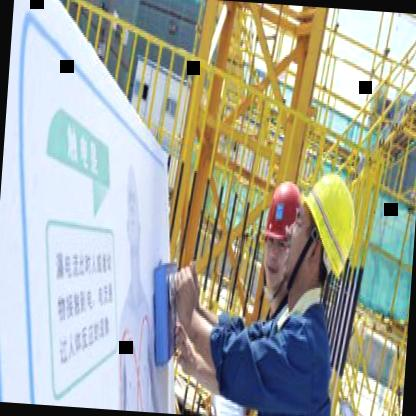helmet: (284, 172, 357, 298), (260, 178, 302, 294)
